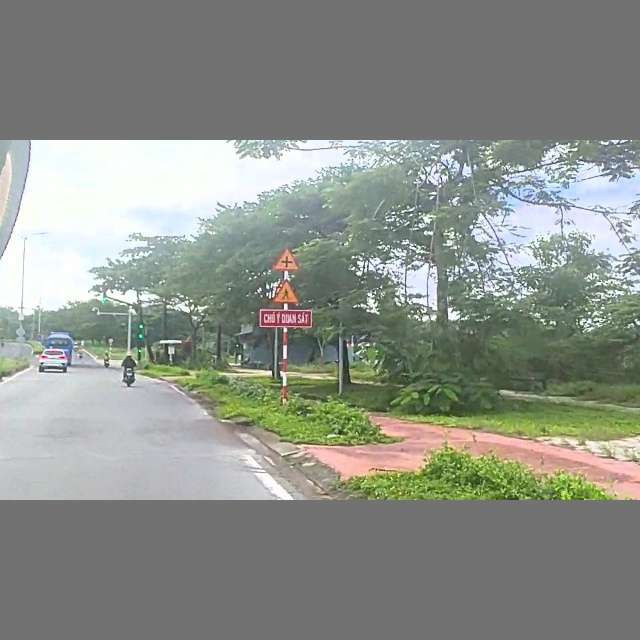W.205a: (271, 247, 300, 272)
W.224: (269, 279, 302, 305)
